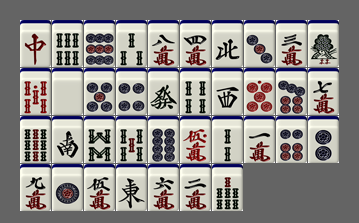0m: (180, 116, 211, 163)
0p: (244, 68, 275, 115)
0s: (20, 68, 51, 115)
1m: (244, 116, 275, 163)
1p: (52, 164, 83, 211)
1s: (308, 20, 339, 67)
1z: (116, 164, 147, 211)
2m: (180, 164, 211, 211)
2p: (308, 116, 339, 163)
2s: (212, 116, 243, 163)
2z: (52, 116, 83, 163)
3m: (276, 20, 307, 67)
3p: (244, 20, 275, 67)
3s: (116, 20, 147, 67)
3z: (212, 68, 243, 115)
4m: (180, 20, 211, 67)
4p: (116, 68, 147, 115)
4s: (180, 68, 211, 115)
4z: (212, 20, 243, 67)
5m: (84, 164, 115, 211)
5p: (84, 68, 115, 115)
5s: (116, 116, 147, 163)
5z: (52, 68, 83, 115)
6m: (148, 164, 179, 211)
6p: (276, 116, 307, 163)
6s: (52, 20, 83, 67)
6z: (148, 68, 179, 115)
7m: (308, 68, 339, 115)
7p: (276, 68, 307, 115)
7s: (212, 164, 243, 211)
7z: (20, 20, 51, 67)
8m: (148, 20, 179, 67)
8p: (148, 116, 179, 163)
8s: (84, 116, 115, 163)
9m: (20, 164, 51, 211)
9p: (84, 20, 115, 67)
9s: (20, 116, 51, 163)
